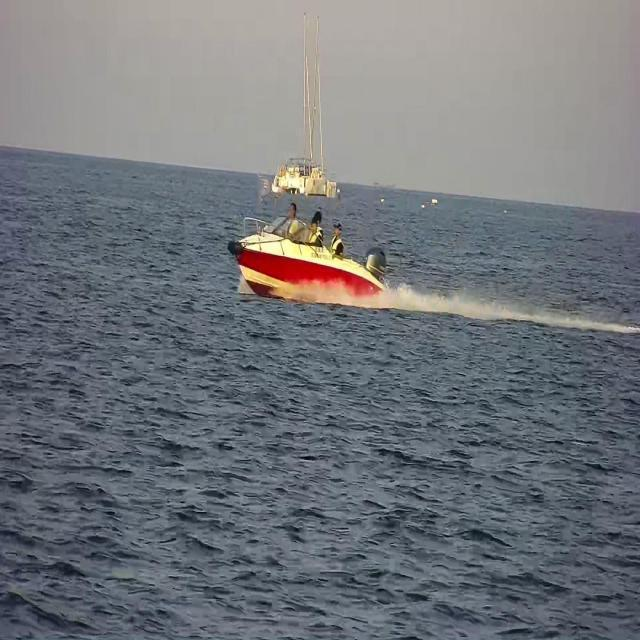ship2: (231, 219, 385, 306), (271, 13, 338, 201)
